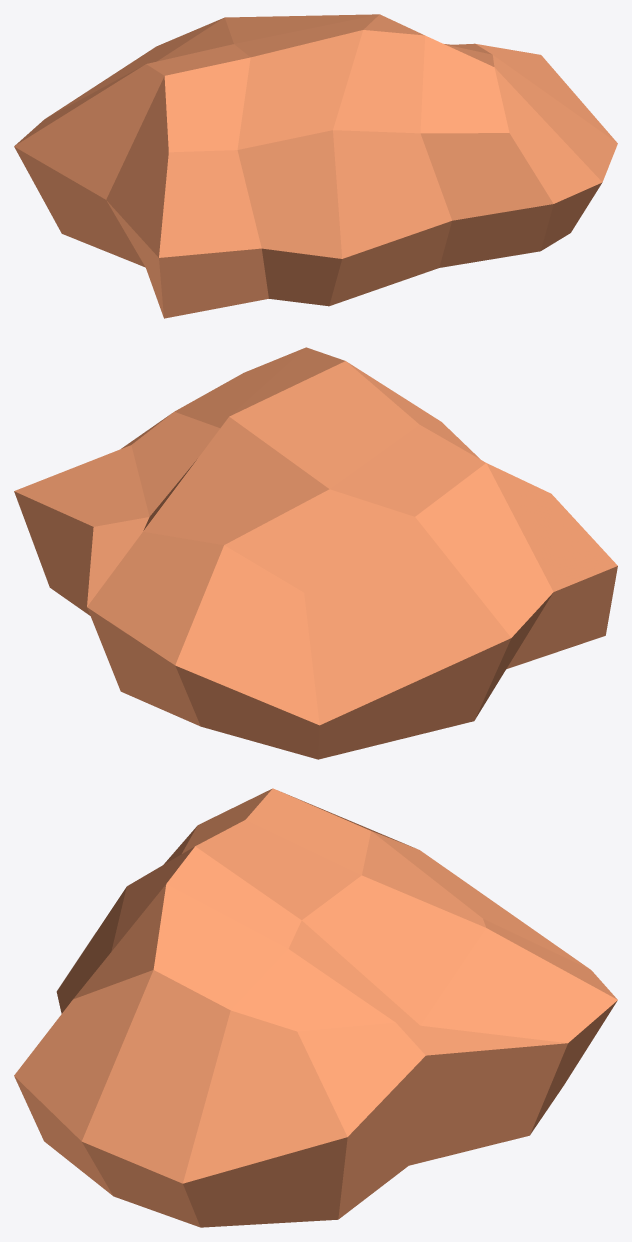
File: Rock_5.fbx
The picture shows the model from 3 angles, top to bottom: view 1: azimuth 30°, elevation 25°; view 2: azimuth 150°, elevation 25°; view 3: azimuth 270°, elevation 25°; orthographic projection. The views are drawn at different scales.
Visible parts, largest first — view 1: Rock_5; view 2: Rock_5; view 3: Rock_5.
Part boxes in pixels (<box>): Rock_5: <box>14,14,617,318</box>; Rock_5: <box>14,347,617,759</box>; Rock_5: <box>14,788,617,1227</box>.
Size of the model in its own units: 102 by 43.27 by 92.32.
